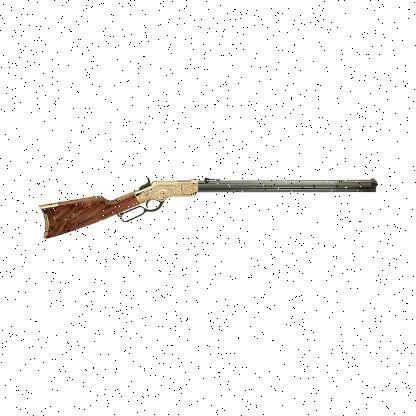gun: (40, 162, 378, 246)
